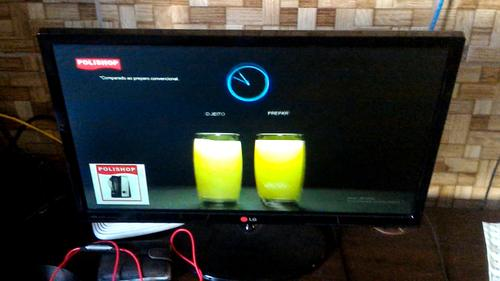Polishop #1: (88, 163, 150, 205)
